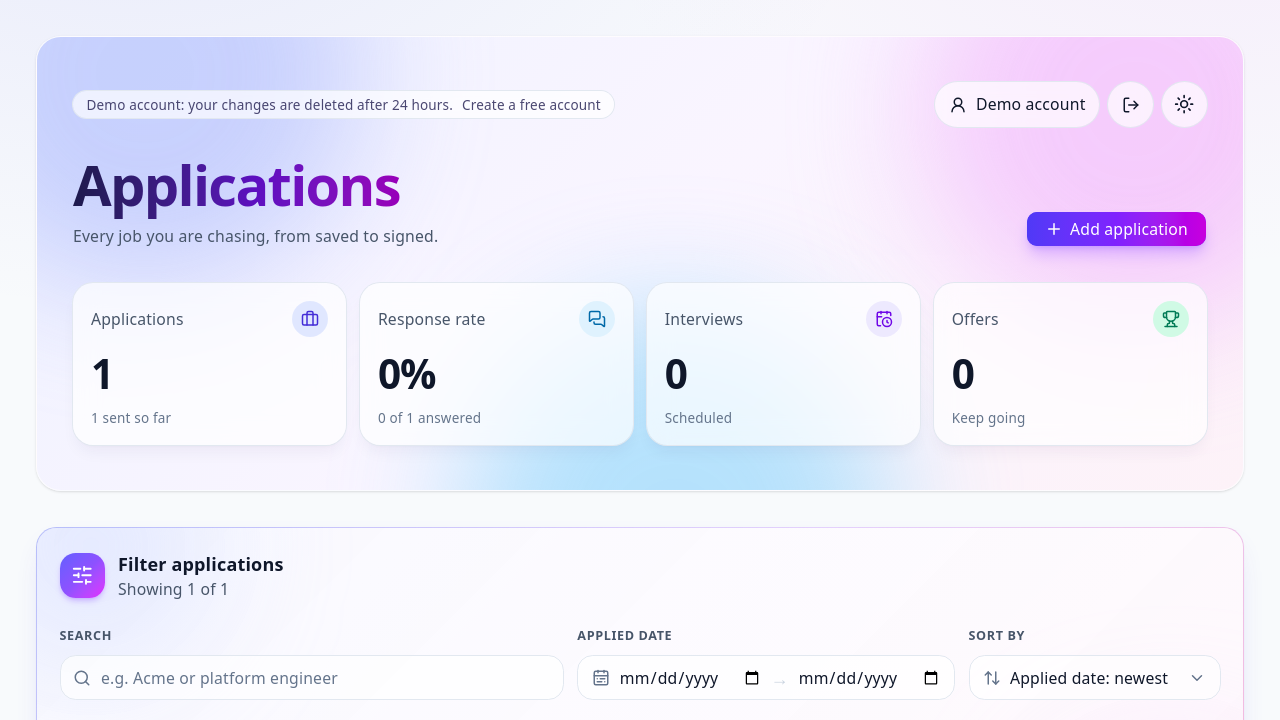
authentication › trying the demo › lets a demo user open the sign-up page
Click the link "Create a free account" at (532, 104), box left=462, top=96, right=601, bottom=114
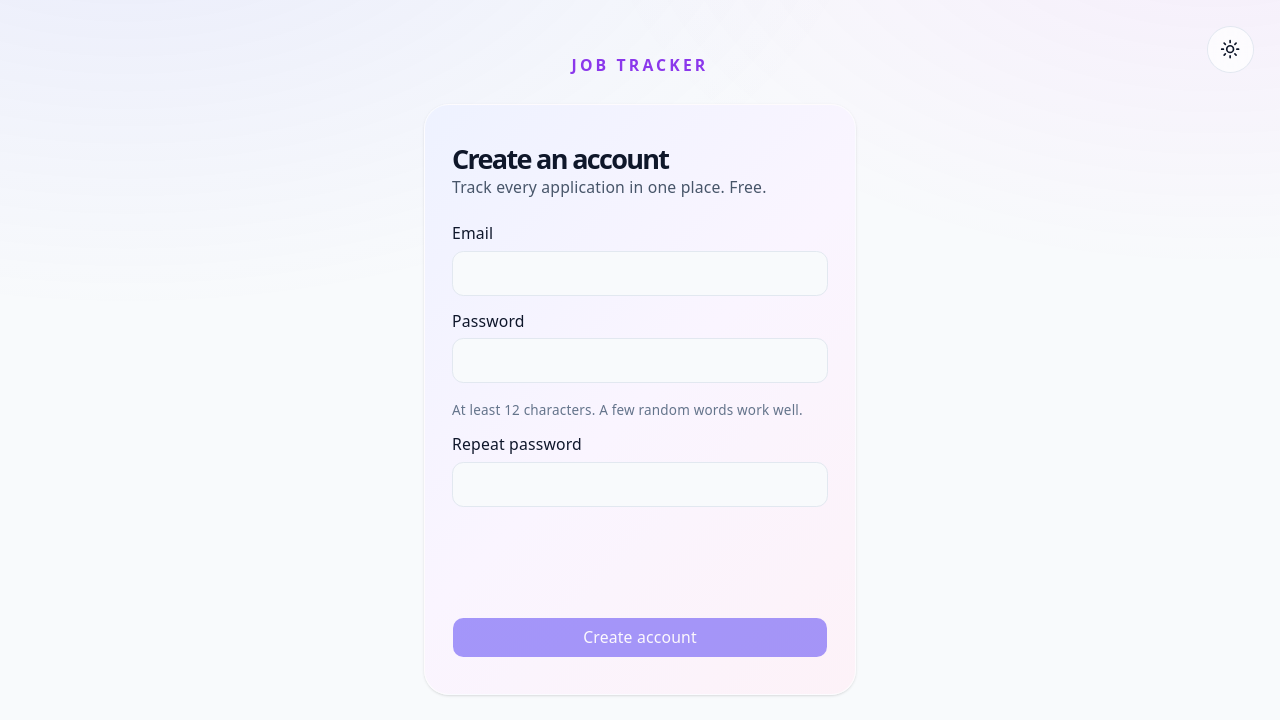
Now the heading "Create an account" is shown, box left=452, top=140, right=668, bottom=176
